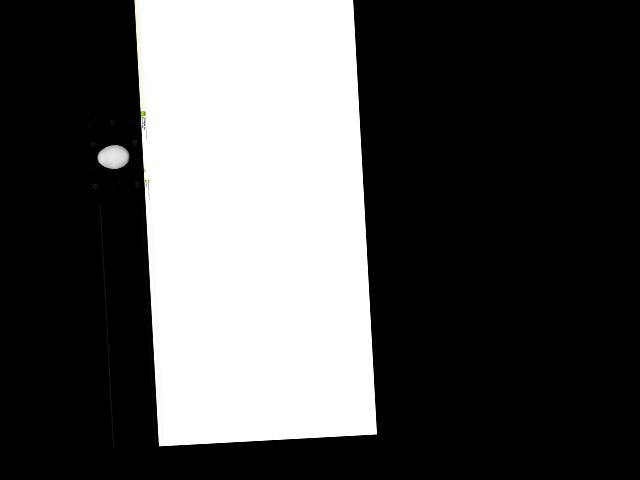egg: (97, 144, 130, 170)
